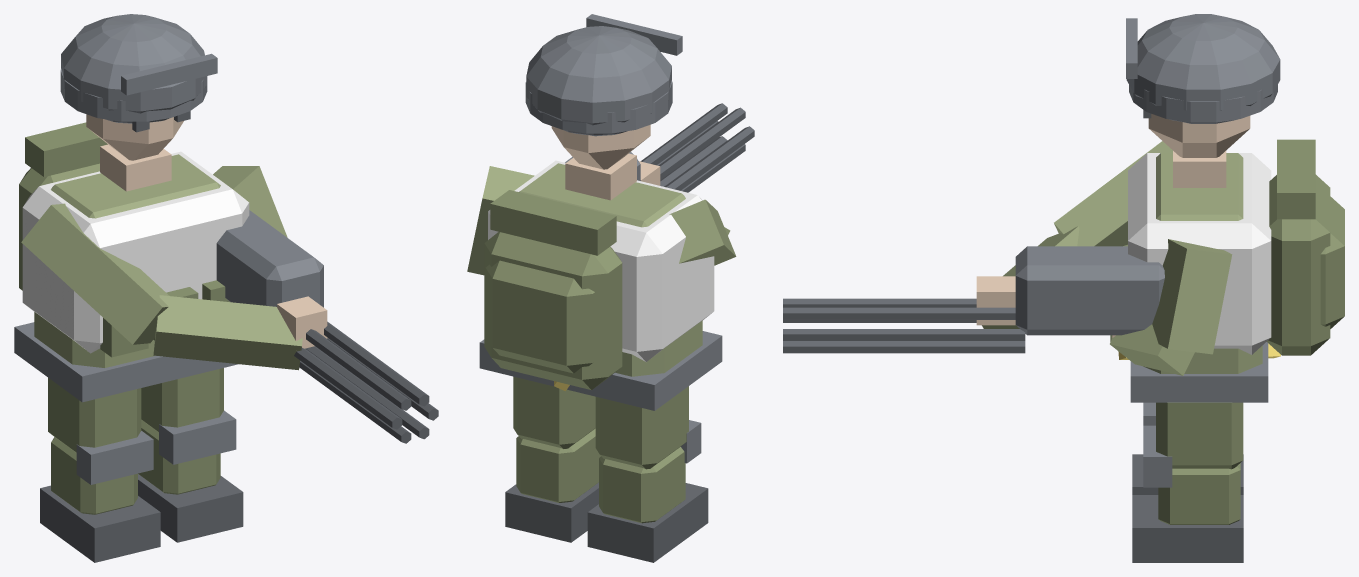
The model's file is gunner.glb.
3 views of the same model, side by side, from view 1: azimuth 30°, elevation 25°; view 2: azimuth 150°, elevation 25°; view 3: azimuth 270°, elevation 25° (orthographic).
Visible parts, largest first — view 1: main, shinl, shinr, legl, legr; view 2: main, shinl, shinr, legl, legr; view 3: main, shinr, legr, shinl.
Part boxes in pixels (left/top/right/bottom): main: left=14, top=14, right=438, bottom=443; shinl: left=40, top=431, right=160, bottom=562; shinr: left=138, top=410, right=243, bottom=542; legl: left=48, top=377, right=141, bottom=452; legr: left=141, top=368, right=223, bottom=432; main: left=467, top=14, right=754, bottom=410; shinl: left=587, top=420, right=708, bottom=562; shinr: left=505, top=428, right=600, bottom=542; legl: left=595, top=386, right=688, bottom=469; legr: left=513, top=376, right=595, bottom=448; main: left=783, top=14, right=1344, bottom=402; shinr: left=1132, top=425, right=1243, bottom=562; legr: left=1156, top=402, right=1243, bottom=469; shinl: left=1132, top=402, right=1243, bottom=494.
Bounding box in the file's own units: 0.3161 × 0.5733 × 0.58.
